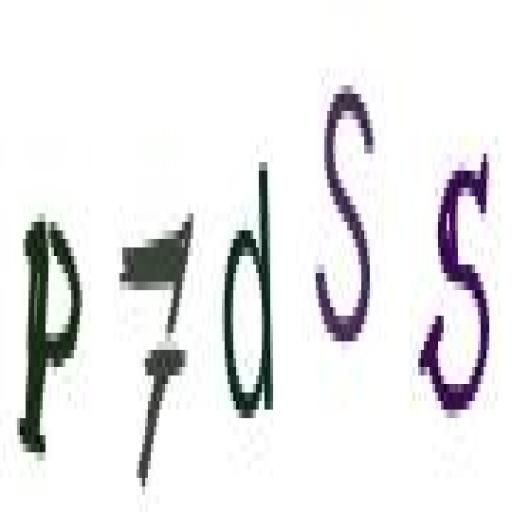7: (114, 202, 202, 506)
P: (16, 199, 86, 483)
S: (308, 56, 386, 381)
d: (215, 147, 281, 452)
s: (412, 140, 500, 440)
